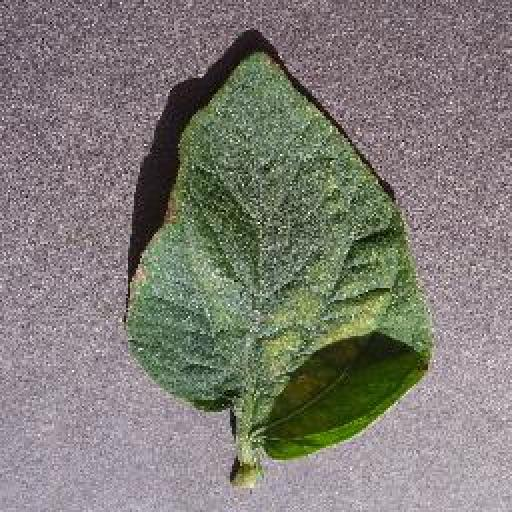disease_tomato: (132, 51, 431, 461)
